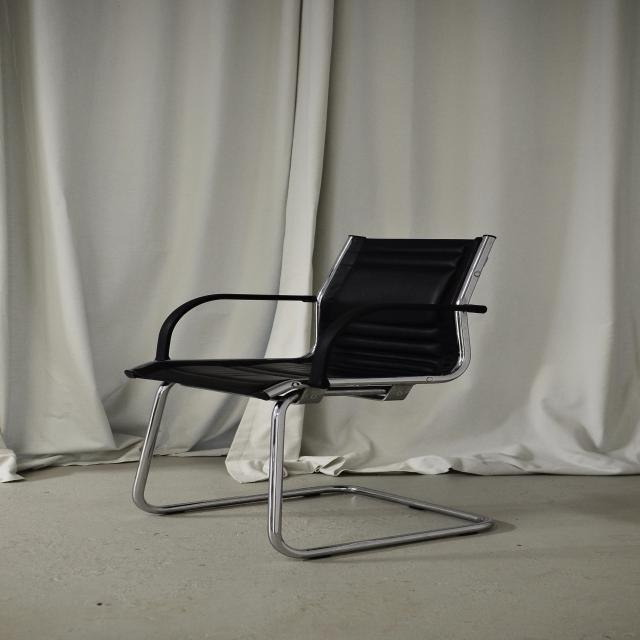chair: (115, 230, 531, 520)
